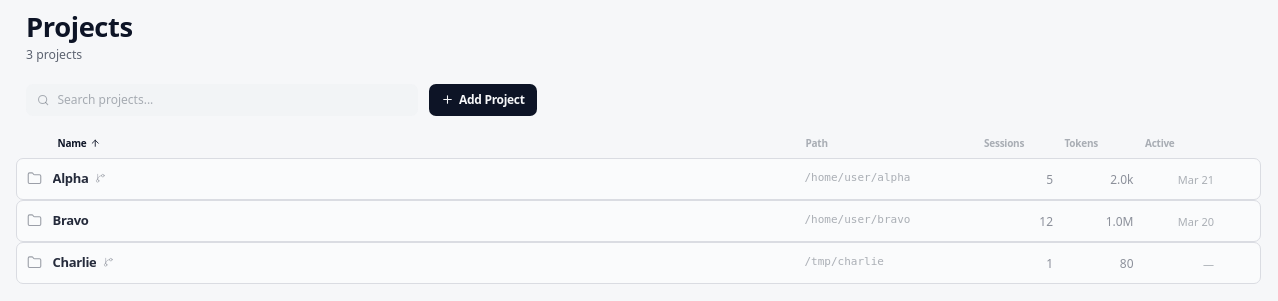
Test: ProjectGrid › filters projects by path when searching
Type "/tmp" into the field with placeholder "Search projects...".
click(222, 100); type("/tmp")  # box [26, 84, 418, 116]
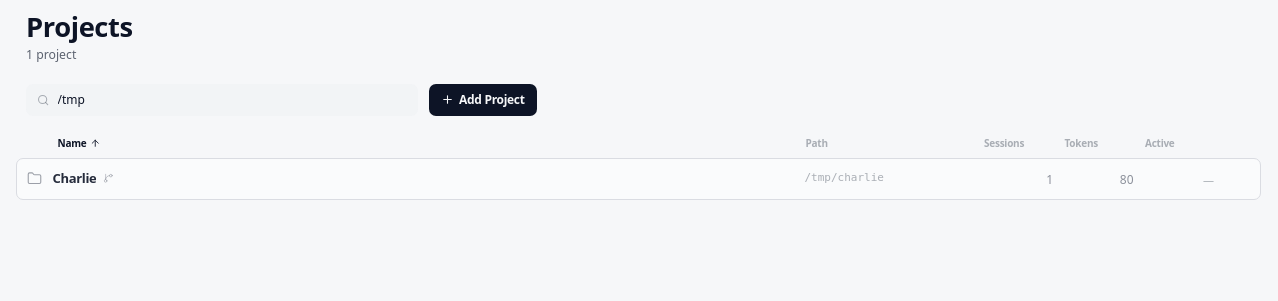
Expected: the text "Charlie" is shown, [52, 169, 96, 188]
Result: the button "Alpha" is gone
Result: the button "Bravo" is gone
